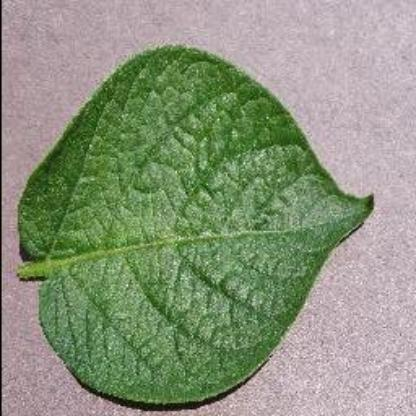Healthy-plant: (15, 30, 365, 404)
